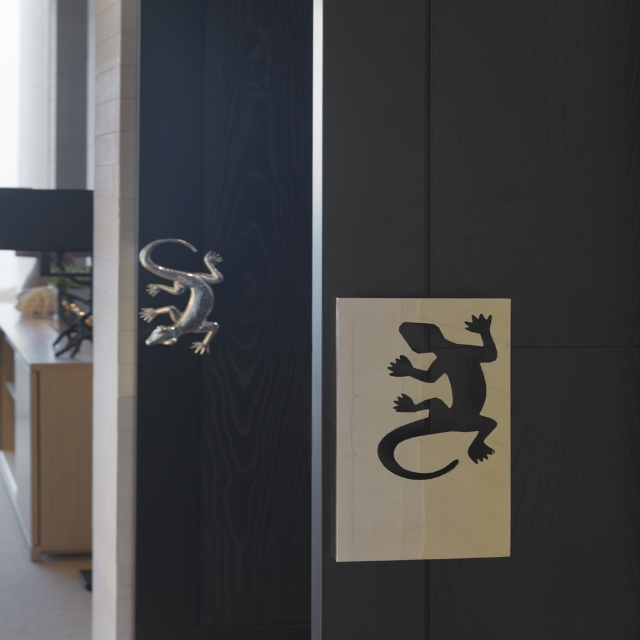Lizard: (373, 310, 499, 478), (128, 232, 229, 345)
